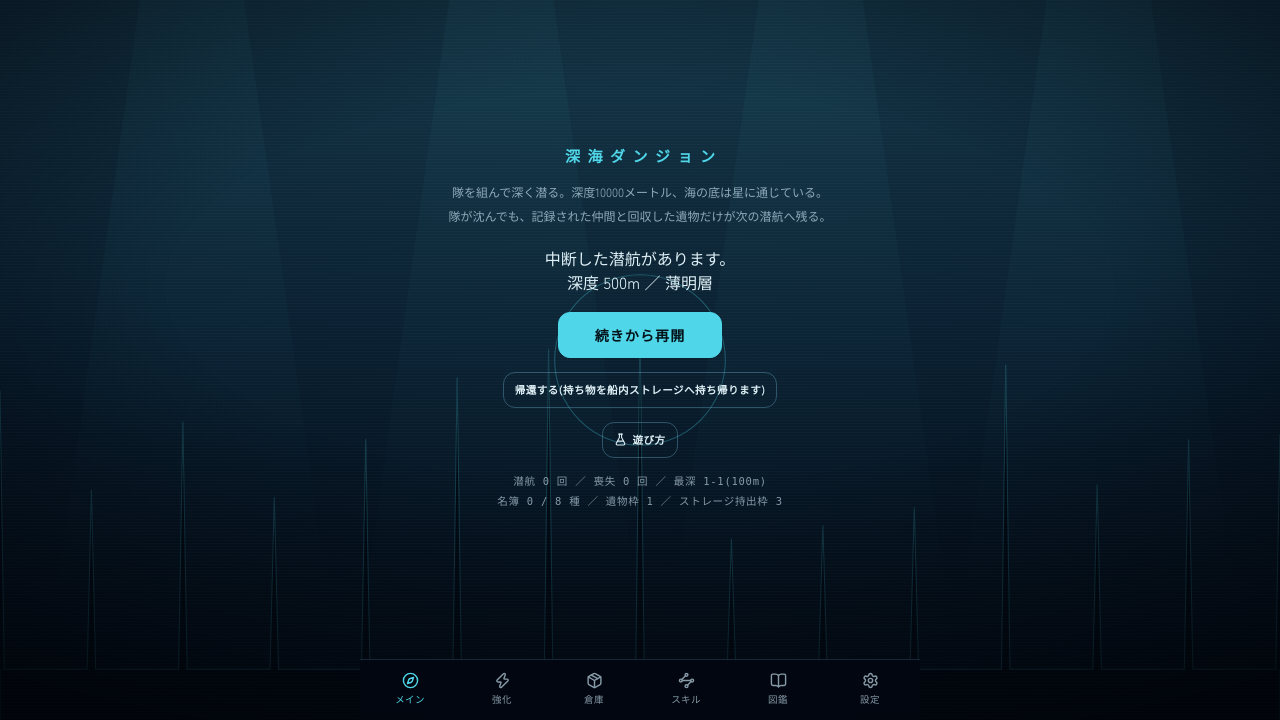
it: 帰還(潜航を自主的に切り上げて母船へ戻る) › 潜航中「潜航をやめて母船へ戻る」で確定すると「帰還」画面が出て、持ち帰った物が表示される。「母船へ」でタイトルに戻る
This screenshot has width=1280, height=720.
Click the button "続きから再開" at point(640, 335), box [558,312,722,358]
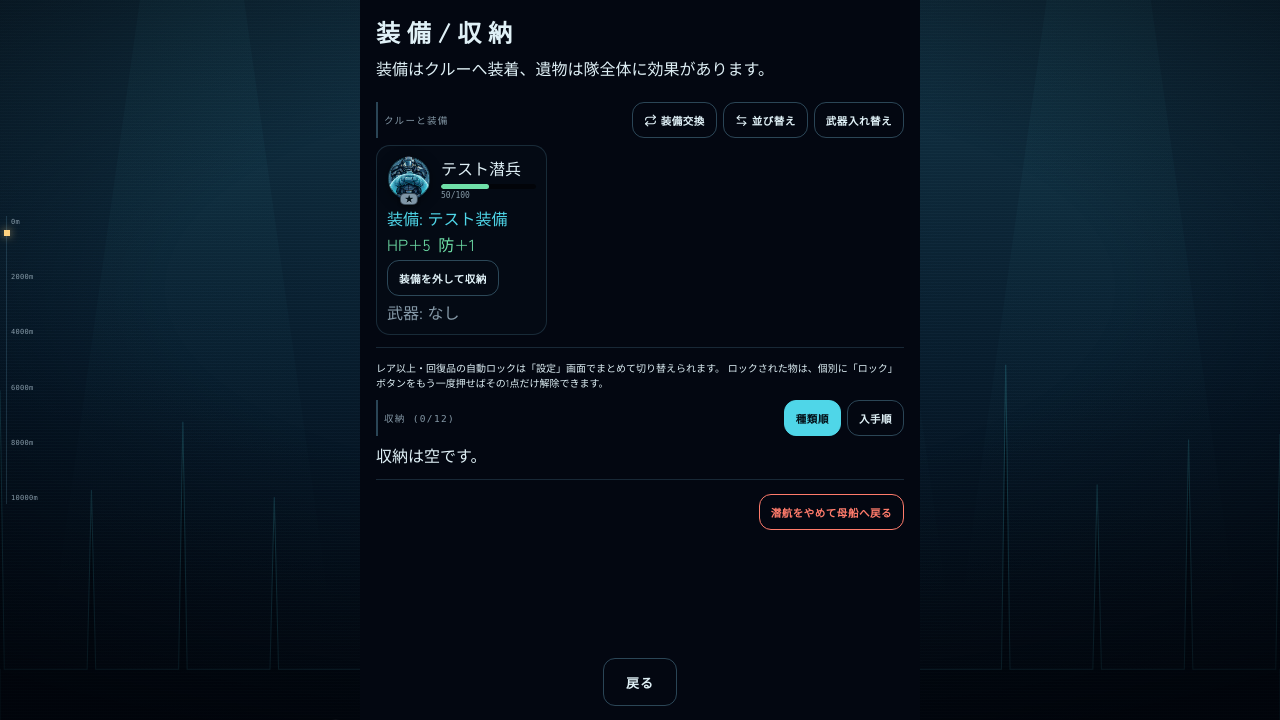
Click the button "潜航をやめて母船へ戻る" at point(831, 512), box [759,494,904,530]
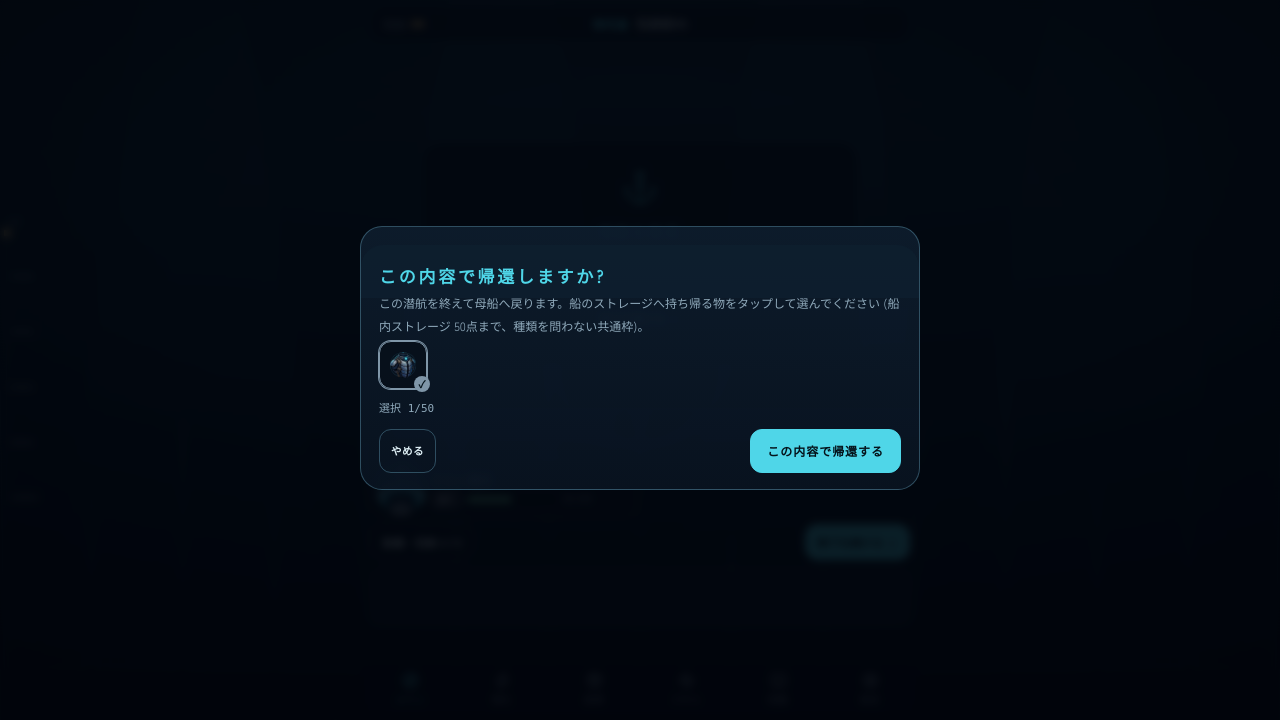
Click the button "この内容で帰還する" at point(826, 451), box [750,429,901,473]
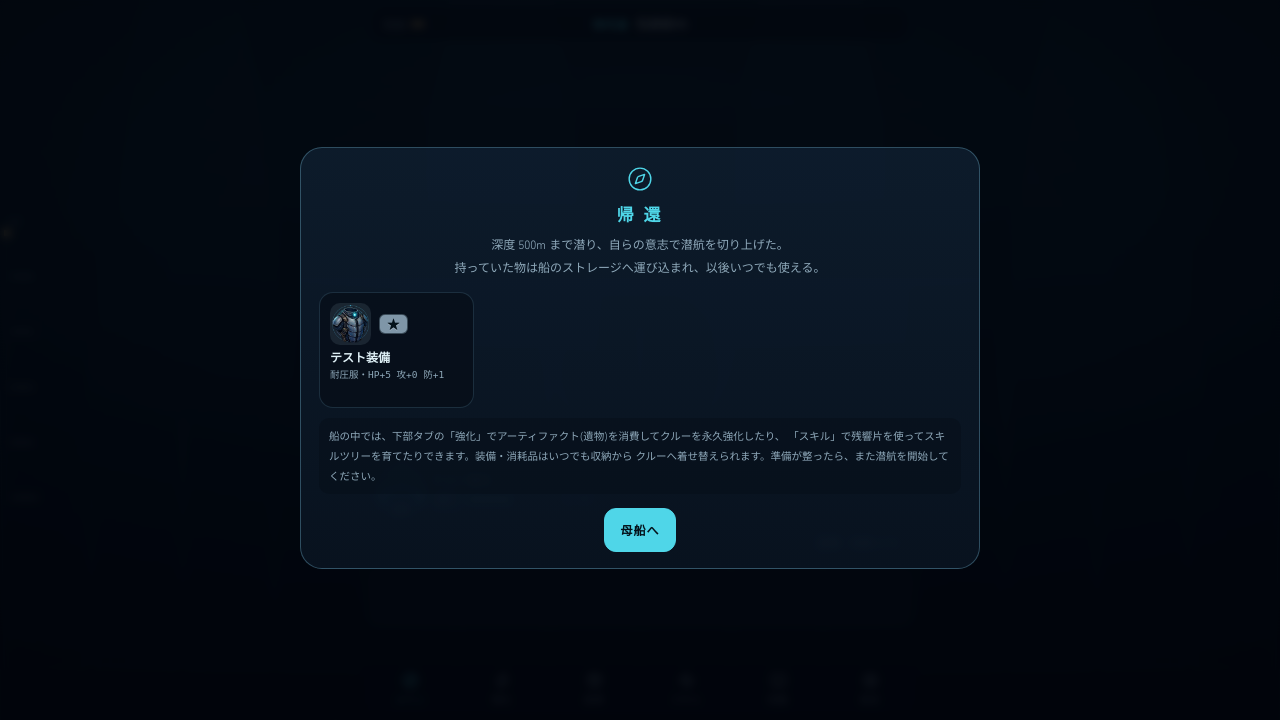
Expected: the text "深海ダンジョン" is not shown
Expected: the text "帰 還" is shown, [617,201,663,226]
Expected: the text "テスト装備" is shown, [330,349,390,365]
Click the button "母船へ" at point(640, 530), box [604,508,676,552]
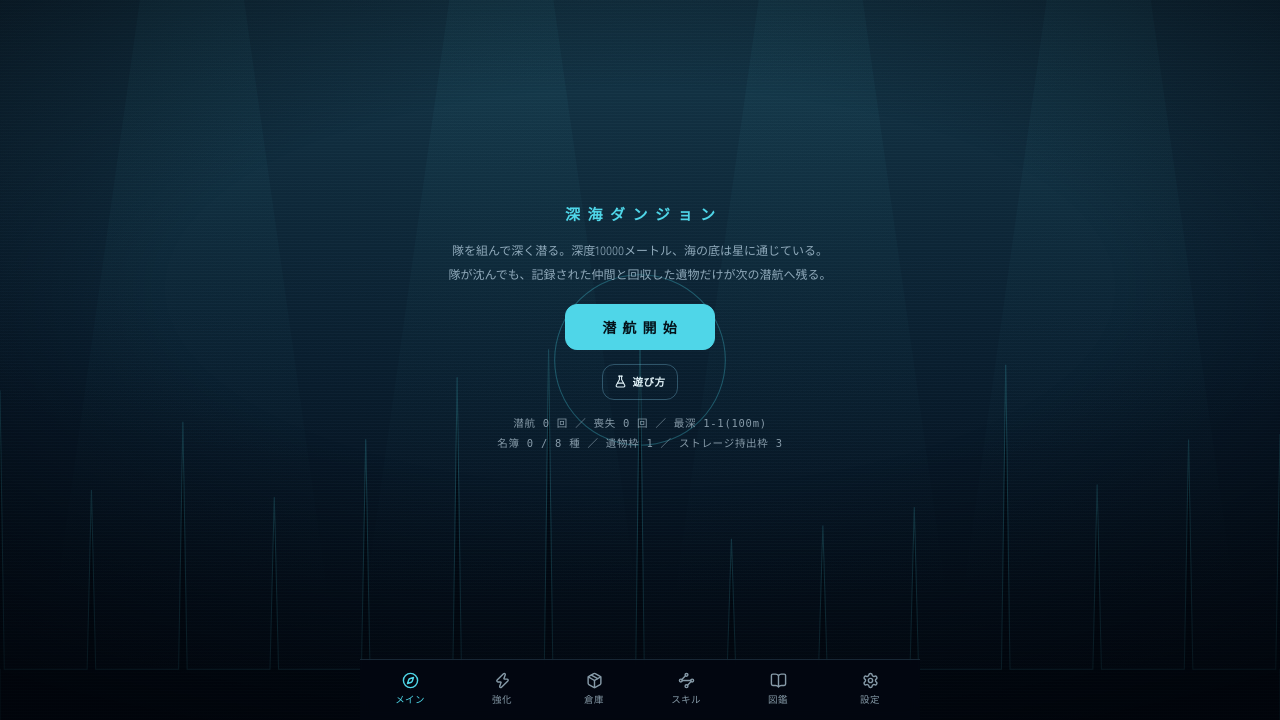
Expected: the text "深海ダンジョン" is shown, [558,203,722,224]
